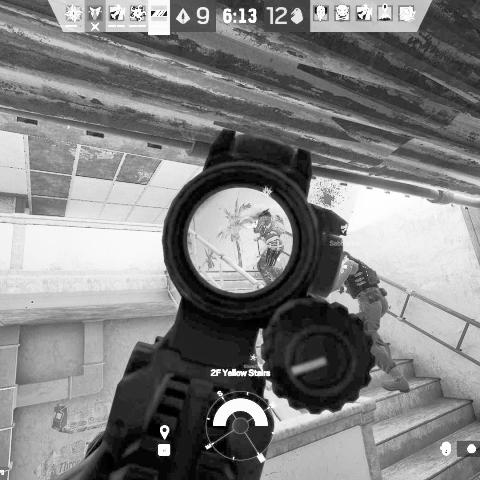Character: (336, 250, 412, 394), (248, 209, 287, 285)
Friend_label: (328, 223, 361, 247), (253, 185, 280, 209), (243, 354, 264, 370)
Head: (339, 251, 357, 264), (258, 210, 272, 219)
